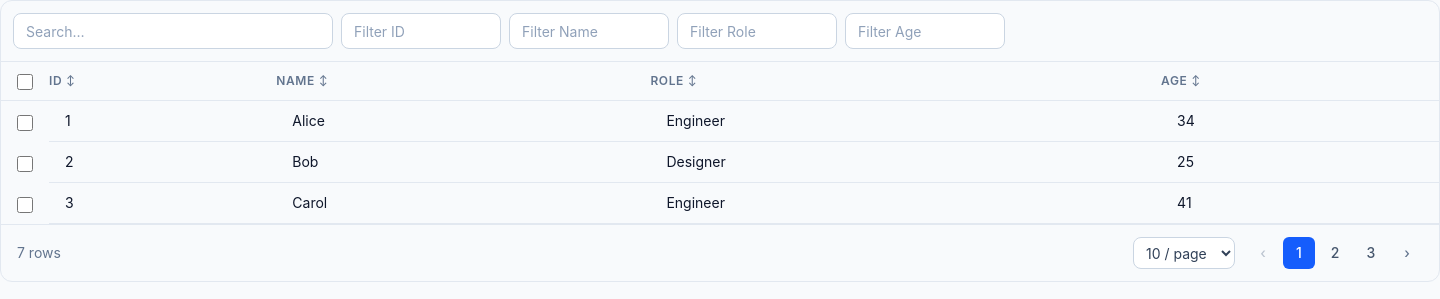
DataTable › selection › clears selection when navigating pages
The width and height of the screenshot is (1440, 299).
Click the checkbox named "Select Users row 1".
click(25, 122)  # box [17,114,33,130]
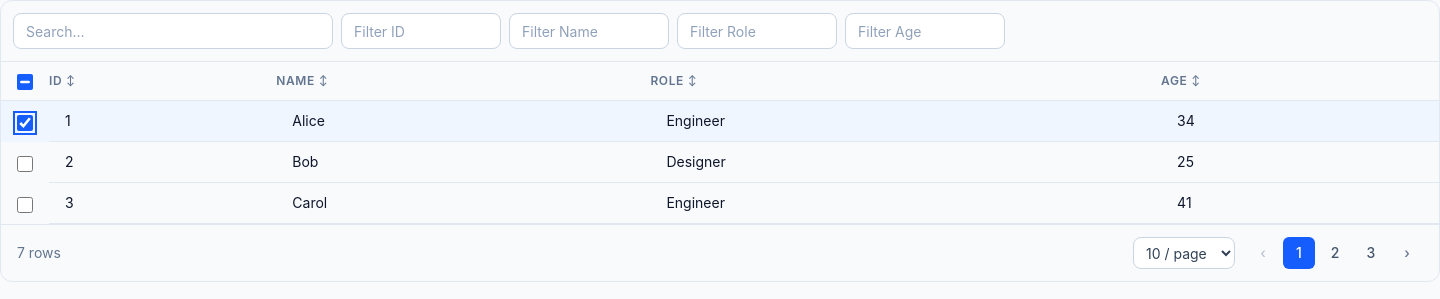
Click the button named "Next page".
click(1407, 253)  # box [1391,237,1423,269]
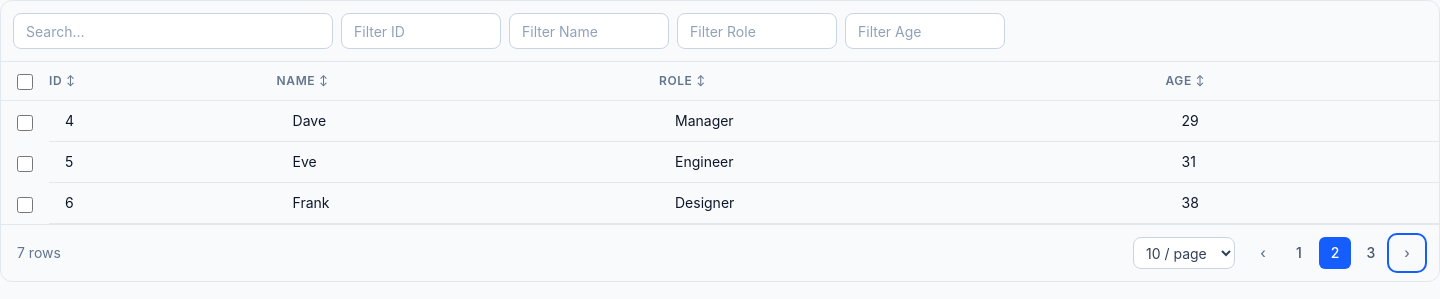
Expected: the checkbox named "Select Users row 1" is not checked, [17,114,33,130]
